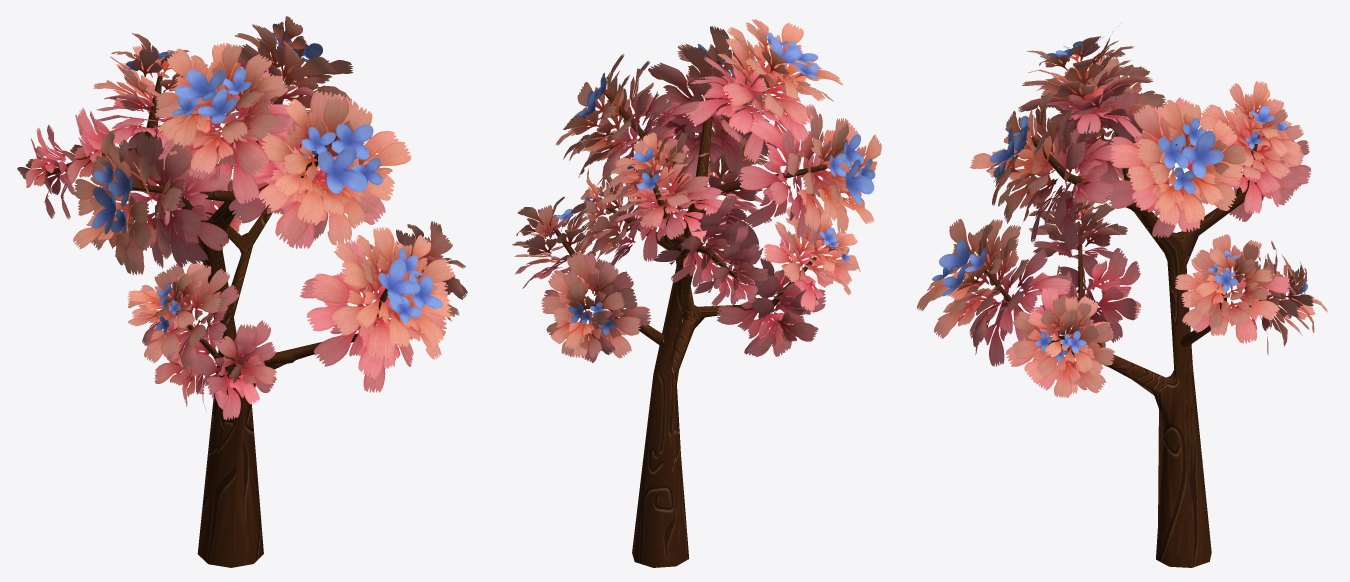
File: pinktree3.fbx
The picture shows the model from 3 angles, left to right: view 1: azimuth 30°, elevation 25°; view 2: azimuth 150°, elevation 25°; view 3: azimuth 270°, elevation 25°; orthographic projection. The views are drawn at different scales.
Parts seen in each view (by area): view 1: TRW1; view 2: TRW1; view 3: TRW1.
Part boxes in pixels (box(x1,y1,x2,y2)): TRW1: box(17, 16, 467, 567); TRW1: box(512, 19, 881, 567); TRW1: box(916, 25, 1327, 567).
Bounding box in the file's own units: 520 × 764 × 579.
